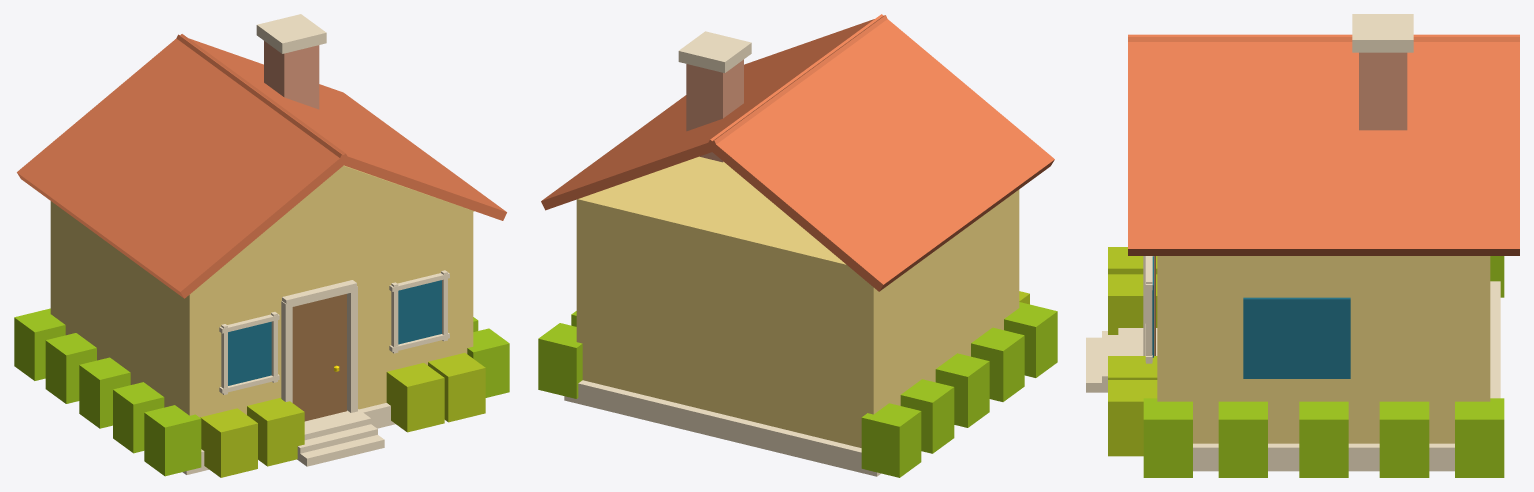
The model's file is House_Yellow_Red_Roof.glb.
The picture shows the model from 3 angles, left to right: view 1: azimuth 30°, elevation 25°; view 2: azimuth 150°, elevation 25°; view 3: azimuth 270°, elevation 25°; orthographic projection. The views are drawn at different scales.
Visible parts, largest first — view 1: House_Yellow_Red_Roof; view 2: House_Yellow_Red_Roof; view 3: House_Yellow_Red_Roof.
Part boxes in pixels (x1,y1,x2,y2): House_Yellow_Red_Roof: (14,14,509,477); House_Yellow_Red_Roof: (538,14,1057,477); House_Yellow_Red_Roof: (1086,14,1519,477).
Size of the model in its own units: 4.44 by 4.02 by 4.04.
